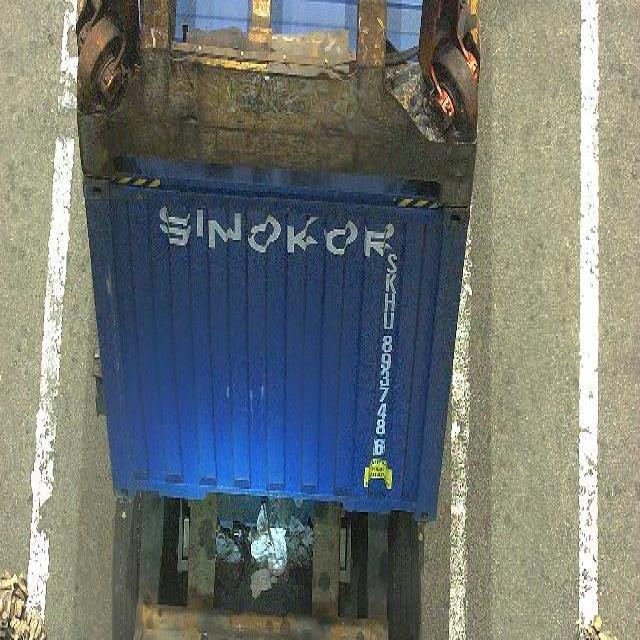container_number: (370, 240, 400, 458)
